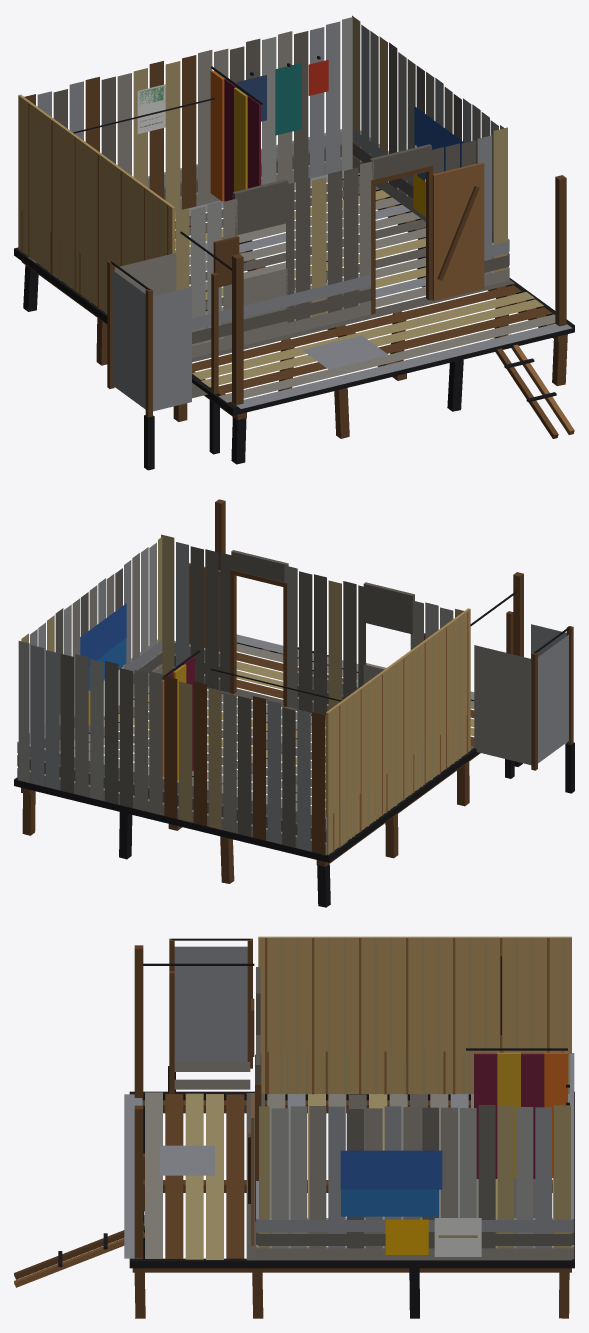
File: building_makoko-room.cbc261d914e2.glb
3 views of the same model, one above another, from view 1: azimuth 30°, elevation 25°; view 2: azimuth 150°, elevation 25°; view 3: azimuth 270°, elevation 25° (orthographic). The views are drawn at different scales.
Visible parts, largest first — view 1: body, wall_front_full, wall_back_full, wall_left_full, wall_right_full, wall_front_low, wall_left_low, wall_right_low, wall_back_low; view 2: wall_back_full, body, wall_front_full, wall_left_full, wall_right_full, wall_left_low, wall_back_low, wall_right_low, wall_front_low; view 3: body, wall_left_full, wall_right_full, wall_right_low, wall_front_full, wall_left_low, wall_back_low.
Part boxes in pixels (left/top/right/bottom): body: left=14, top=66, right=574, bottom=470; wall_front_full: left=175, top=127, right=507, bottom=346; wall_back_full: left=24, top=17, right=352, bottom=211; wall_left_full: left=18, top=94, right=174, bottom=314; wall_right_full: left=352, top=15, right=504, bottom=231; wall_front_low: left=192, top=165, right=508, bottom=357; wall_left_low: left=18, top=208, right=107, bottom=313; wall_right_low: left=352, top=129, right=509, bottom=279; wall_back_low: left=148, top=129, right=341, bottom=209; wall_back_full: left=18, top=641, right=325, bottom=854; body: left=14, top=499, right=574, bottom=907; wall_front_full: left=161, top=534, right=463, bottom=716; wall_left_full: left=326, top=608, right=470, bottom=854; wall_right_full: left=21, top=537, right=162, bottom=740; wall_left_low: left=326, top=713, right=470, bottom=854; wall_back_low: left=18, top=743, right=326, bottom=855; wall_right_low: left=17, top=639, right=162, bottom=778; wall_front_low: left=174, top=569, right=358, bottom=712; body: left=14, top=938, right=574, bottom=1318; wall_left_full: left=258, top=936, right=571, bottom=1094; wall_right_full: left=259, top=1105, right=570, bottom=1256; wall_right_low: left=258, top=1218, right=571, bottom=1260; wall_front_full: left=248, top=967, right=261, bottom=1245; wall_left_low: left=261, top=1051, right=568, bottom=1094; wall_back_low: left=569, top=1053, right=574, bottom=1259.
Bounding box in the file's own units: 6.11 × 3.06 × 7.15.
